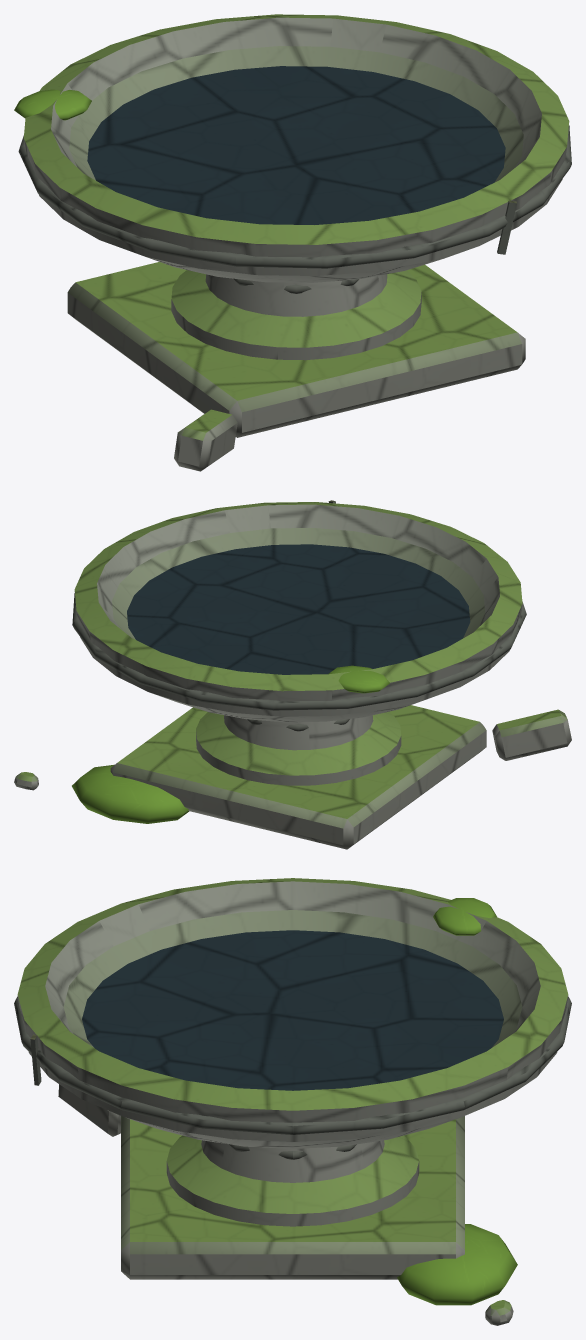
Rendered from stone_basin.glb.
3 views of the same model, one above another, from view 1: azimuth 30°, elevation 25°; view 2: azimuth 150°, elevation 25°; view 3: azimuth 270°, elevation 25° (orthographic). The views are drawn at different scales.
Visible parts, largest first — view 1: stone_basin; view 2: stone_basin; view 3: stone_basin.
Boxes of the visible parts, x1,y1,x2,y2 form: stone_basin: (14, 14, 571, 471); stone_basin: (14, 500, 571, 849); stone_basin: (14, 878, 571, 1325).
Bounding box in the file's own units: 2.43 × 1.17 × 2.43.
Materials: 4 (4 with a texture image).
